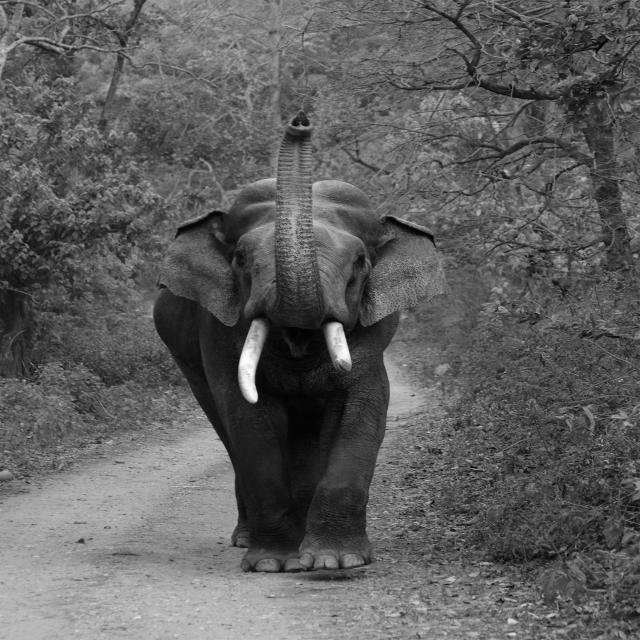Elephant: (152, 110, 451, 573)
